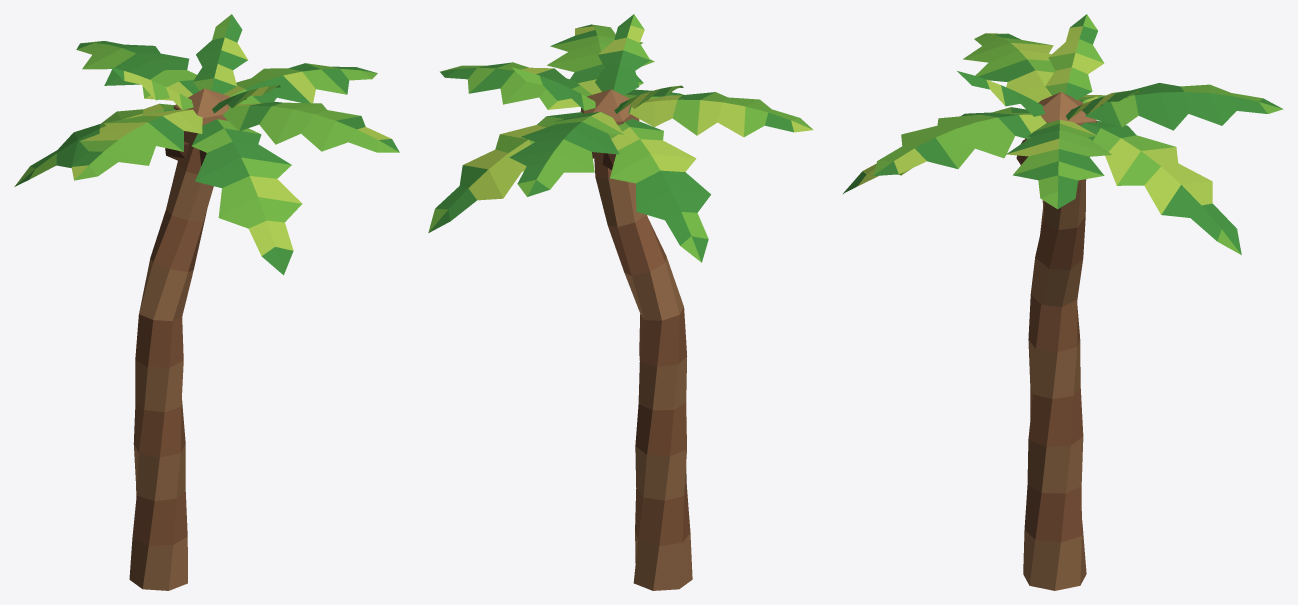
File: palm_c.glb
3 views of the same model, side by side, from view 1: azimuth 30°, elevation 25°; view 2: azimuth 150°, elevation 25°; view 3: azimuth 270°, elevation 25° (orthographic). The views are drawn at different scales.
Parts seen in each view (by area): view 1: body; view 2: body; view 3: body.
Boxes of the visible parts, x1,y1,x2,y2 form: body: (14, 14, 399, 590); body: (428, 14, 812, 590); body: (843, 14, 1283, 590).
Size of the model in its own units: 3.04 by 4.38 by 3.22.
